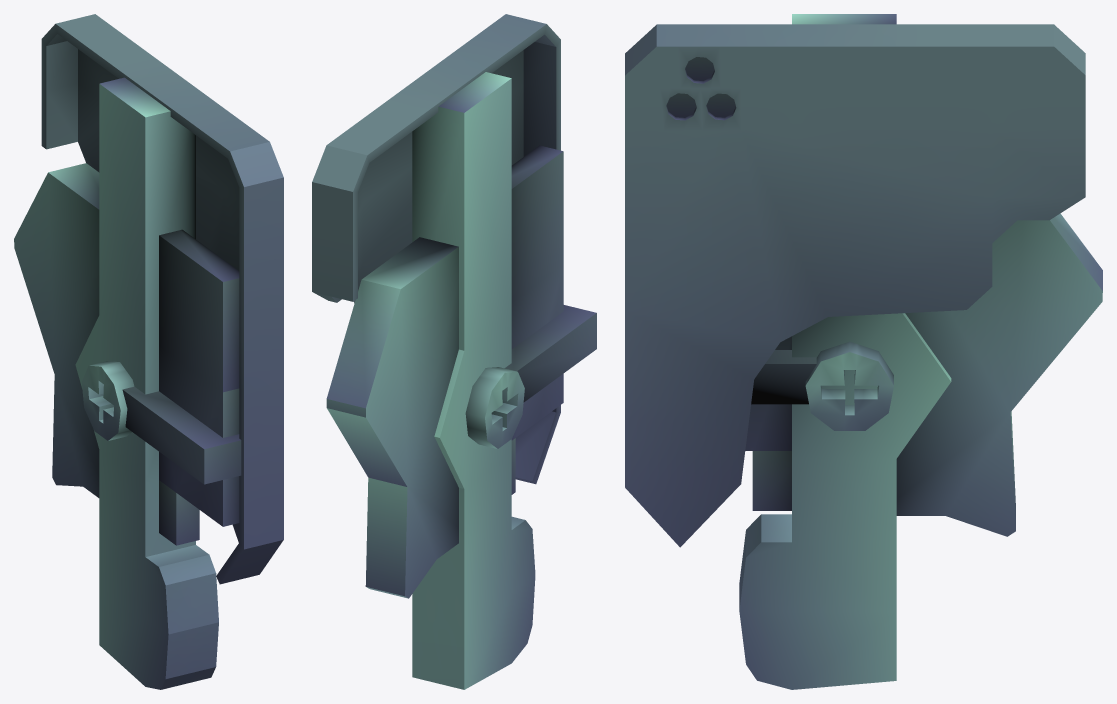
The model's file is somethin.glb.
3 views of the same model, side by side, from view 1: azimuth 30°, elevation 25°; view 2: azimuth 150°, elevation 25°; view 3: azimuth 270°, elevation 25° (orthographic). The views are drawn at different scales.
Parts seen in each view (by area): view 1: Cube2; view 2: Cube2; view 3: Cube2.
Boxes of the visible parts, x1=… form: Cube2: x1=14, y1=14, x2=283, y2=689; Cube2: x1=312, y1=14, x2=596, y2=689; Cube2: x1=625, y1=14, x2=1102, y2=689.
Bounding box in the file's own units: 1.48 × 9.18 × 6.1.
Materials: 1 (1 with a texture image).
